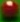brown: (0, 0, 20, 22)
